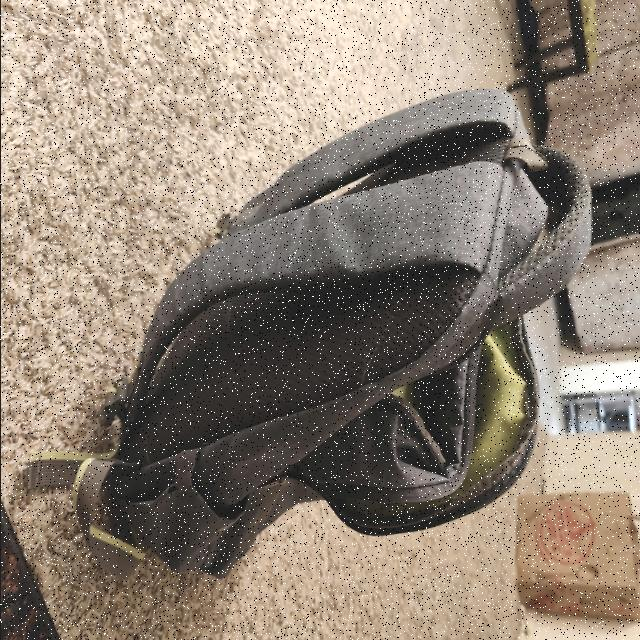bag: (86, 129, 570, 569)
